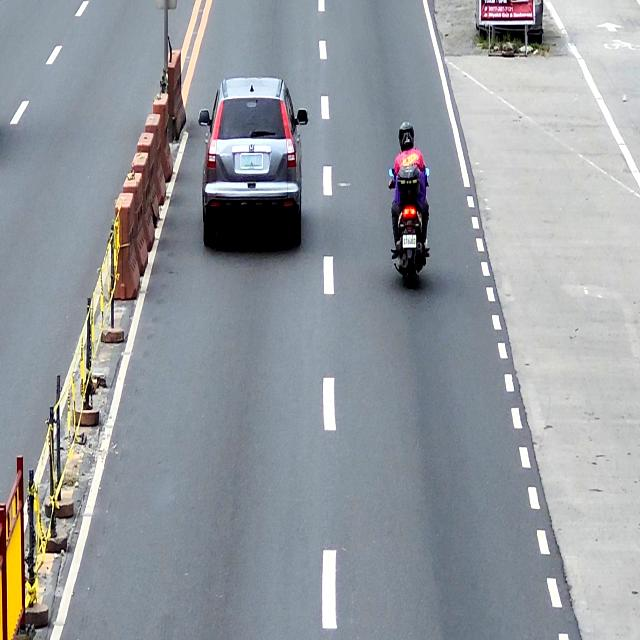Car: (199, 78, 309, 250)
License-Plate: (240, 155, 263, 167), (402, 235, 417, 247)
Motorcycle: (390, 164, 430, 290)
